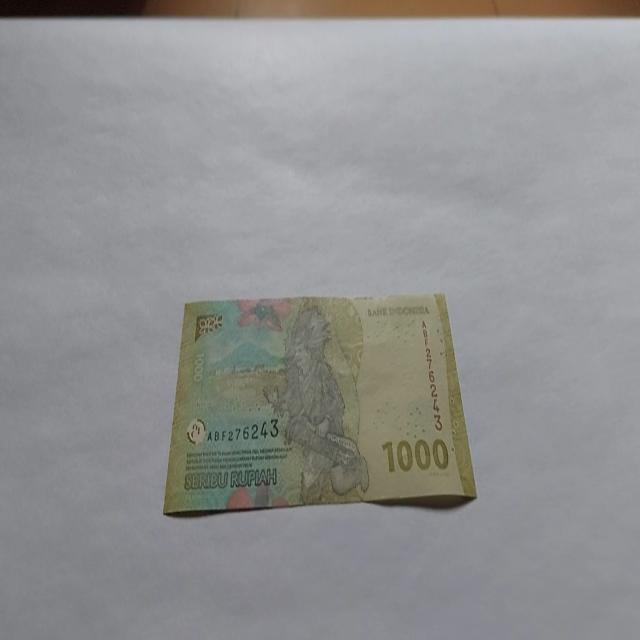seribu rupiah kertas: (162, 290, 477, 516)
